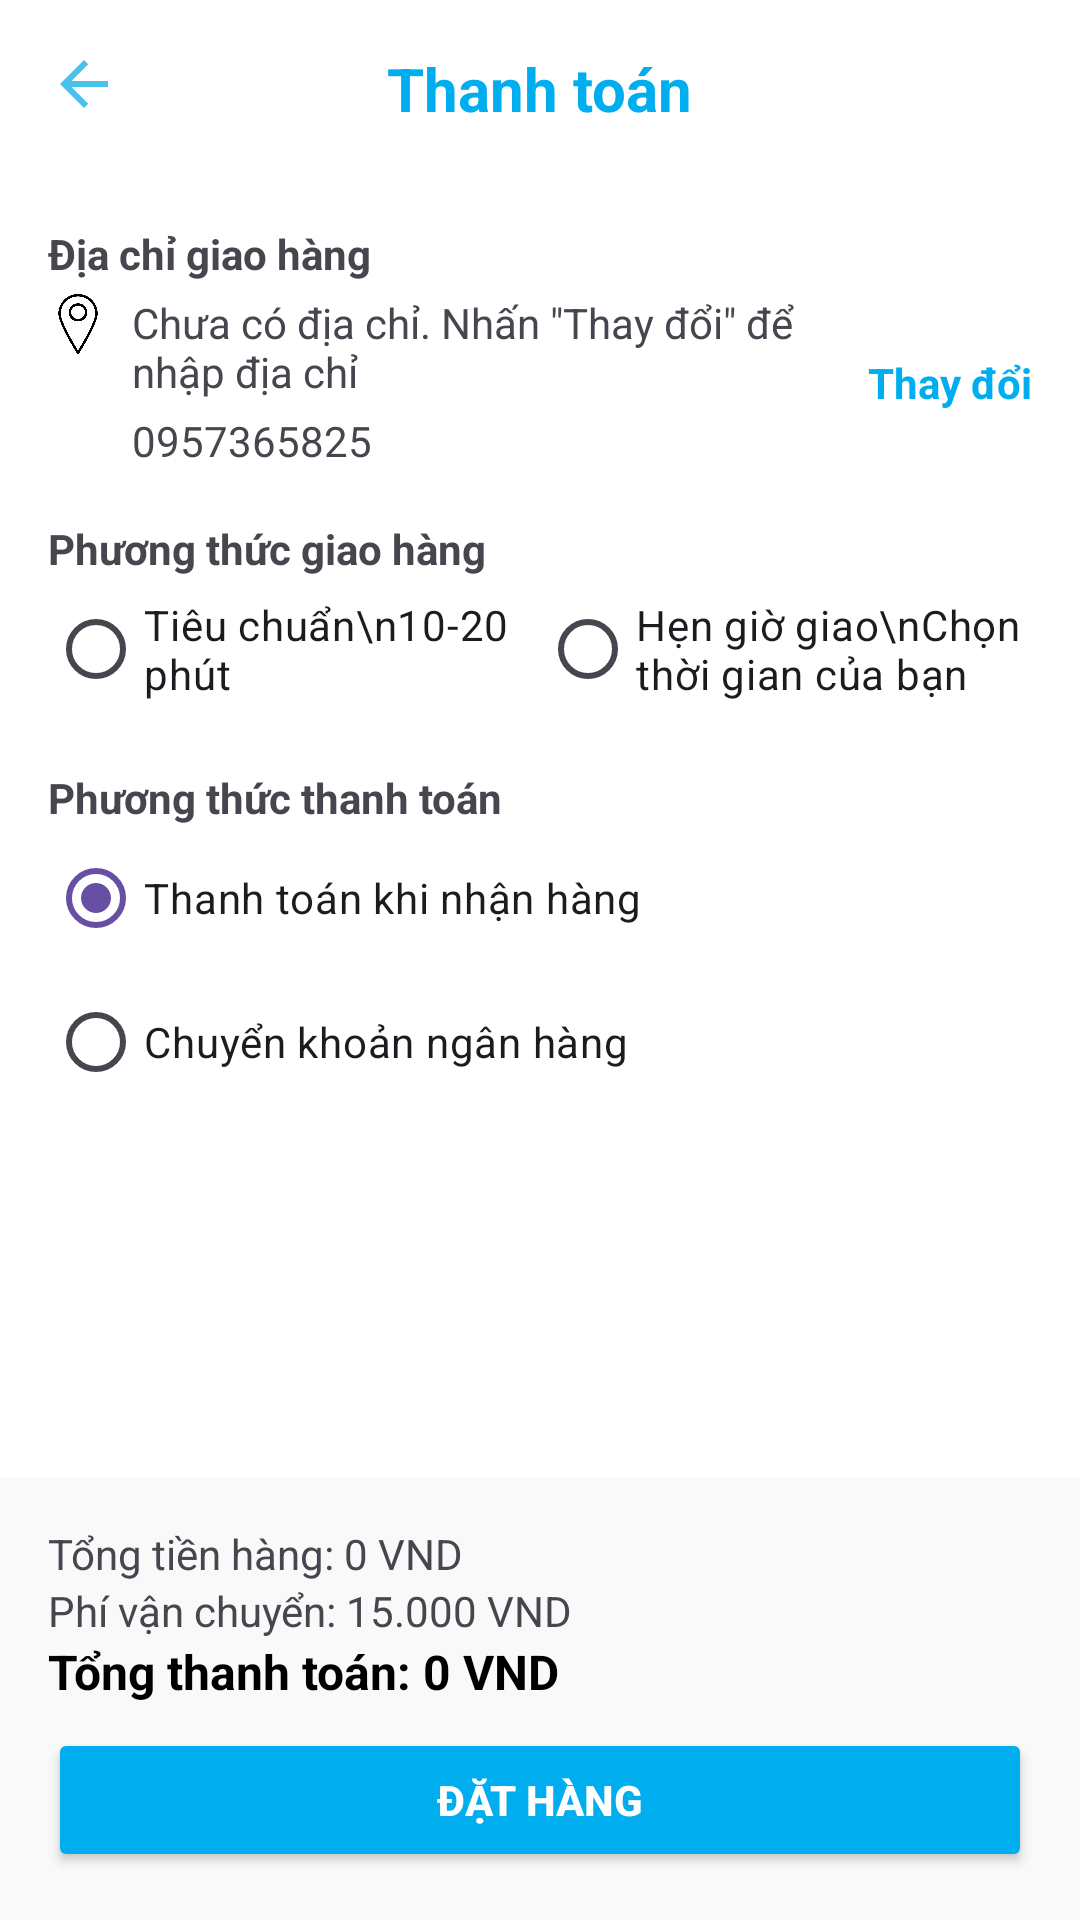

Named icons in this screenshot (1080*1920) and their centers, (x,y):
location: (78,324)
Quay lại: (84,84)
